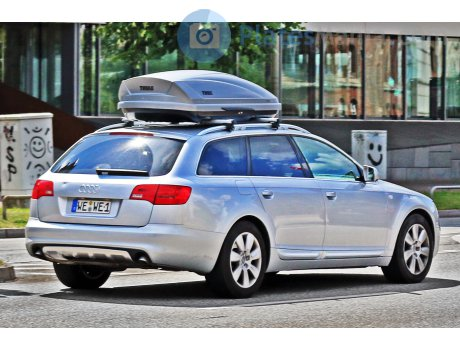License Plates: (75, 198, 111, 209)
